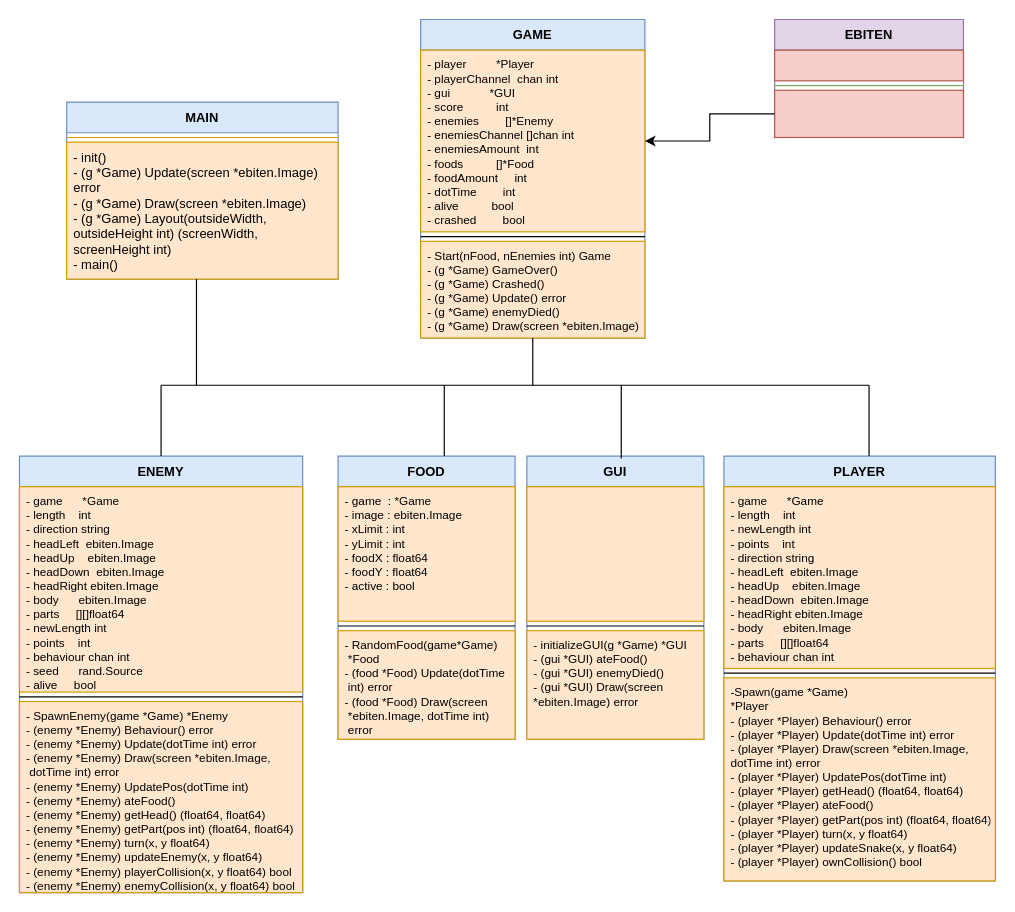
This 1015x912 diagram has some shape labels left out. The centre of each missing label's shape, as x and y in pixels:
- Draw(screen Ebiten.Image) - Update(game *Game): point 868,113
- Game {}: point 868,65
- score : int - remainingEnemies : int - game : *Game - largest : bool: point 615,553
